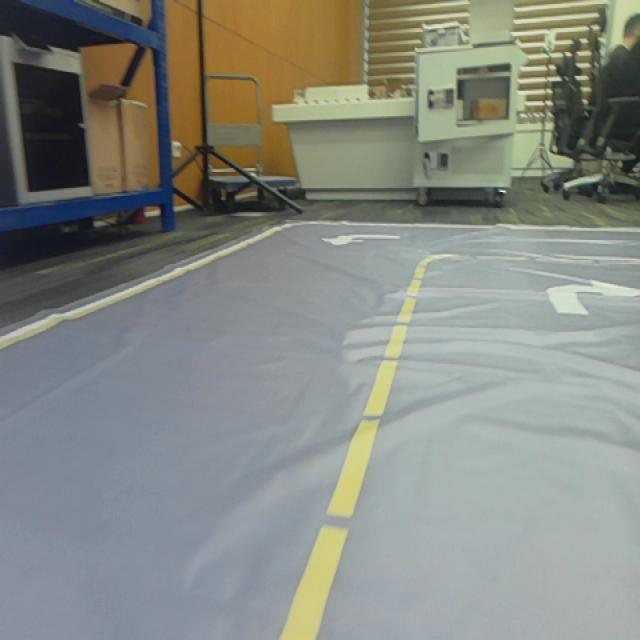left_lane: (281, 264, 426, 640)
